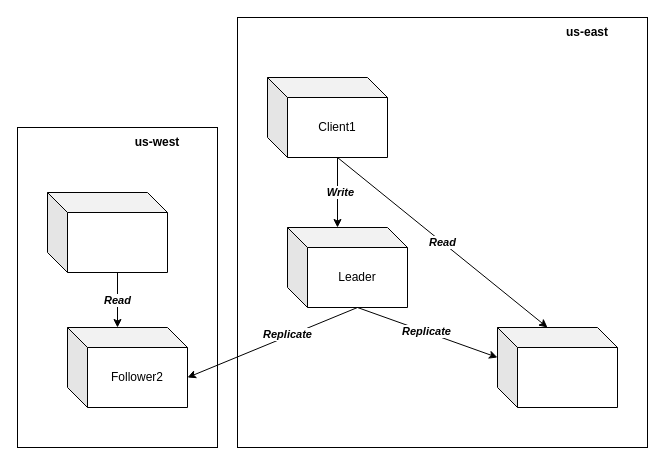
The diagram is 665 pixels wide and 465 high, and some of its shapes have lost their labels. Each missing label, with the box of its shape:
Client2: (46, 192, 168, 272)
Follower1: (496, 326, 618, 408)
